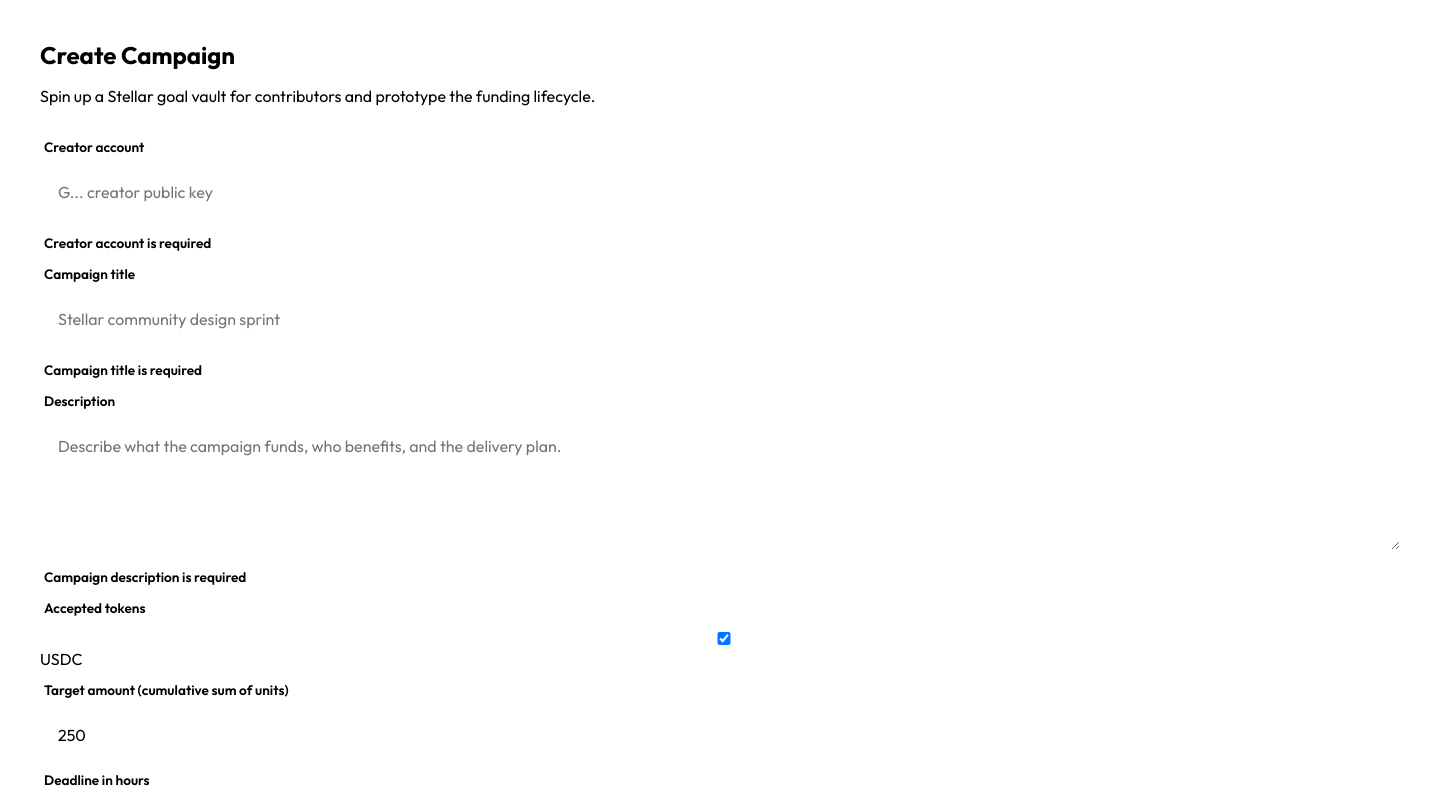
CreateCampaignForm › Field Validation - Description › shows error for description too short
Type "Too short" into the text box with placeholder "Describe what the campaign funds" at (720, 486), box [40,422,1400,550]
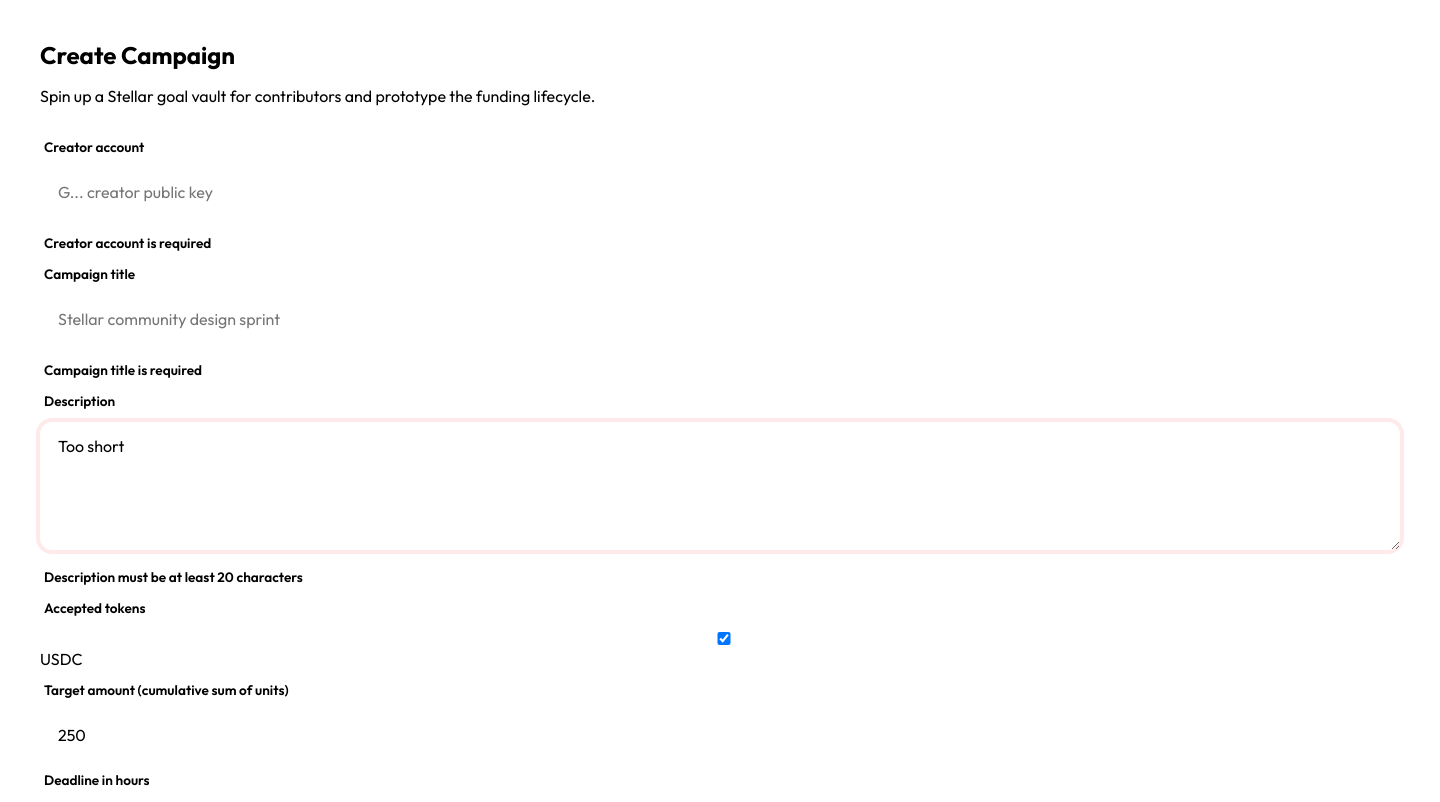
Expected: the text "Description must be at least 20 characters" is shown, [44,568,303,586]
